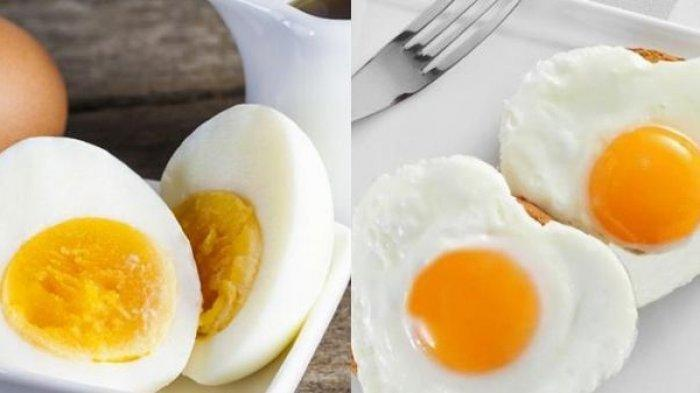telur: (370, 230, 564, 393), (2, 203, 172, 384), (553, 69, 700, 249), (182, 140, 286, 349)
